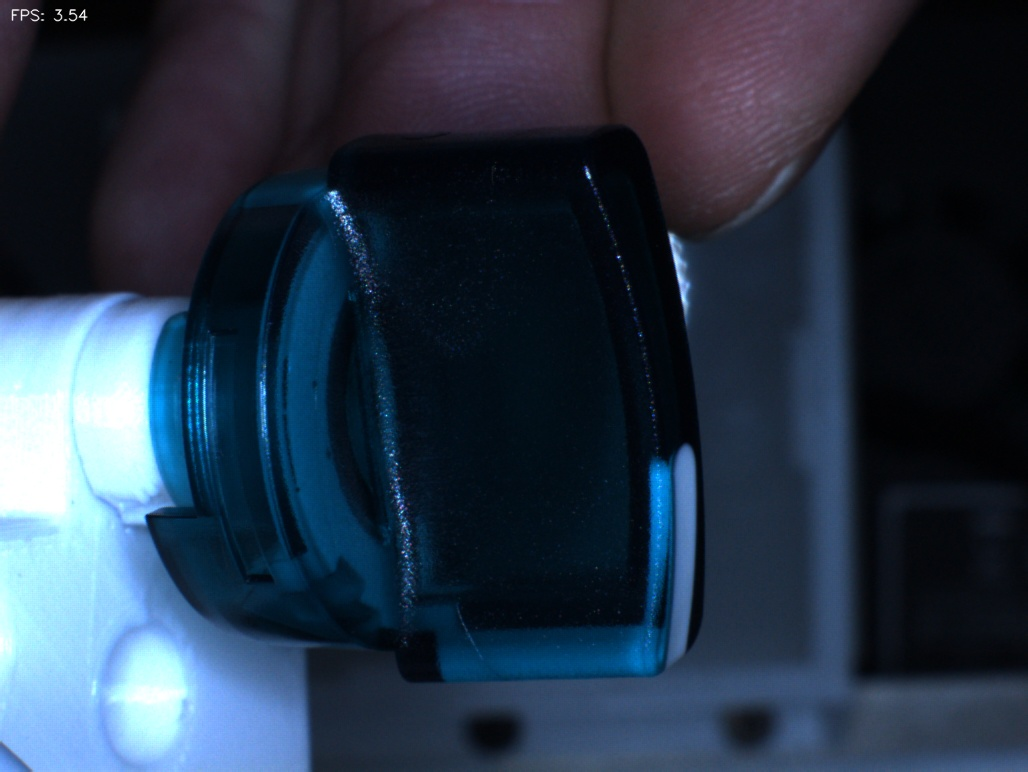PointNoir: (272, 339, 355, 421)
